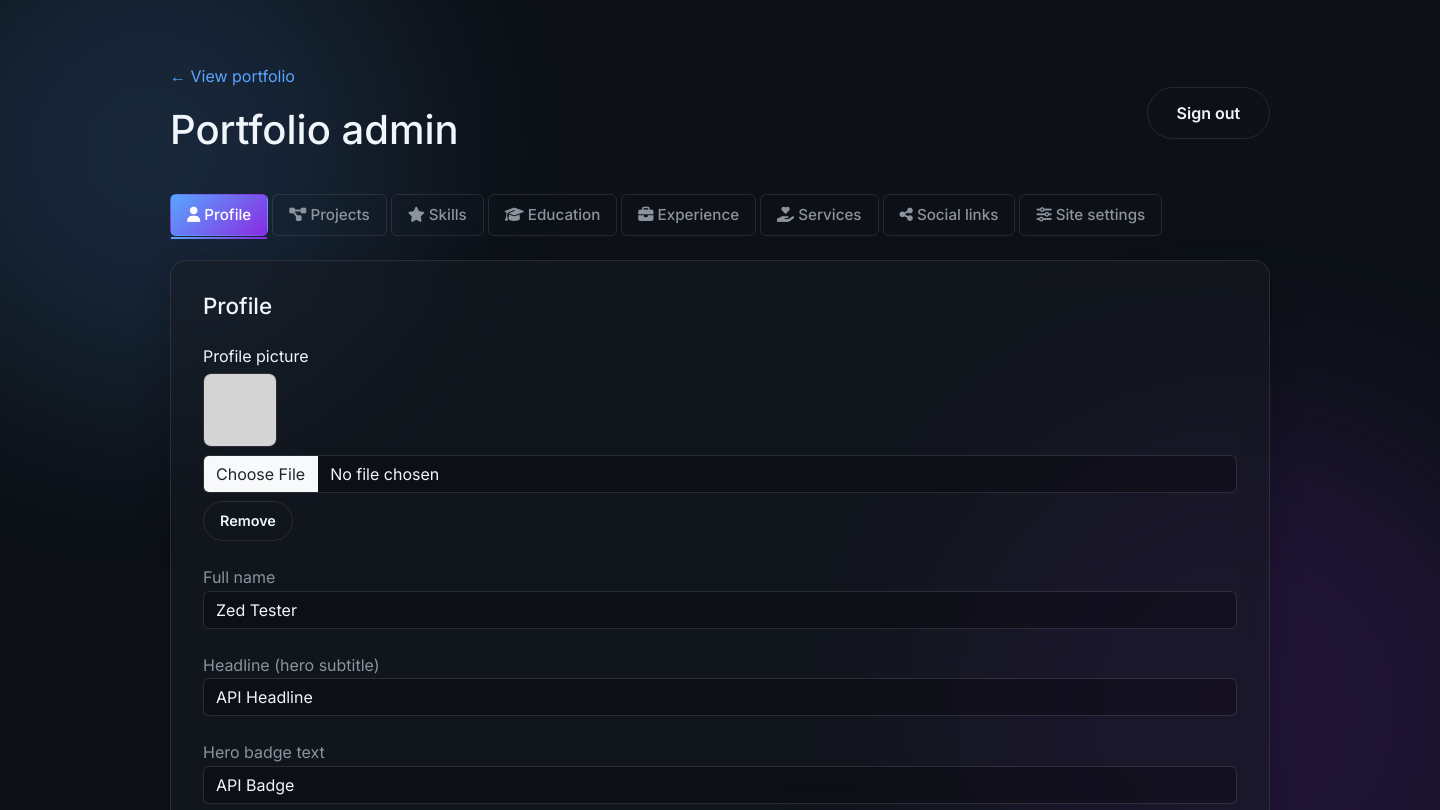
Test: admin dashboard › shows a list-loading error instead of a blank page
Check: the field labelled "Full name" is shown, box x1=203 y1=591 x2=1237 y2=629
Click the tab "Education" at (553, 215), box x1=488 y1=194 x2=617 y2=236
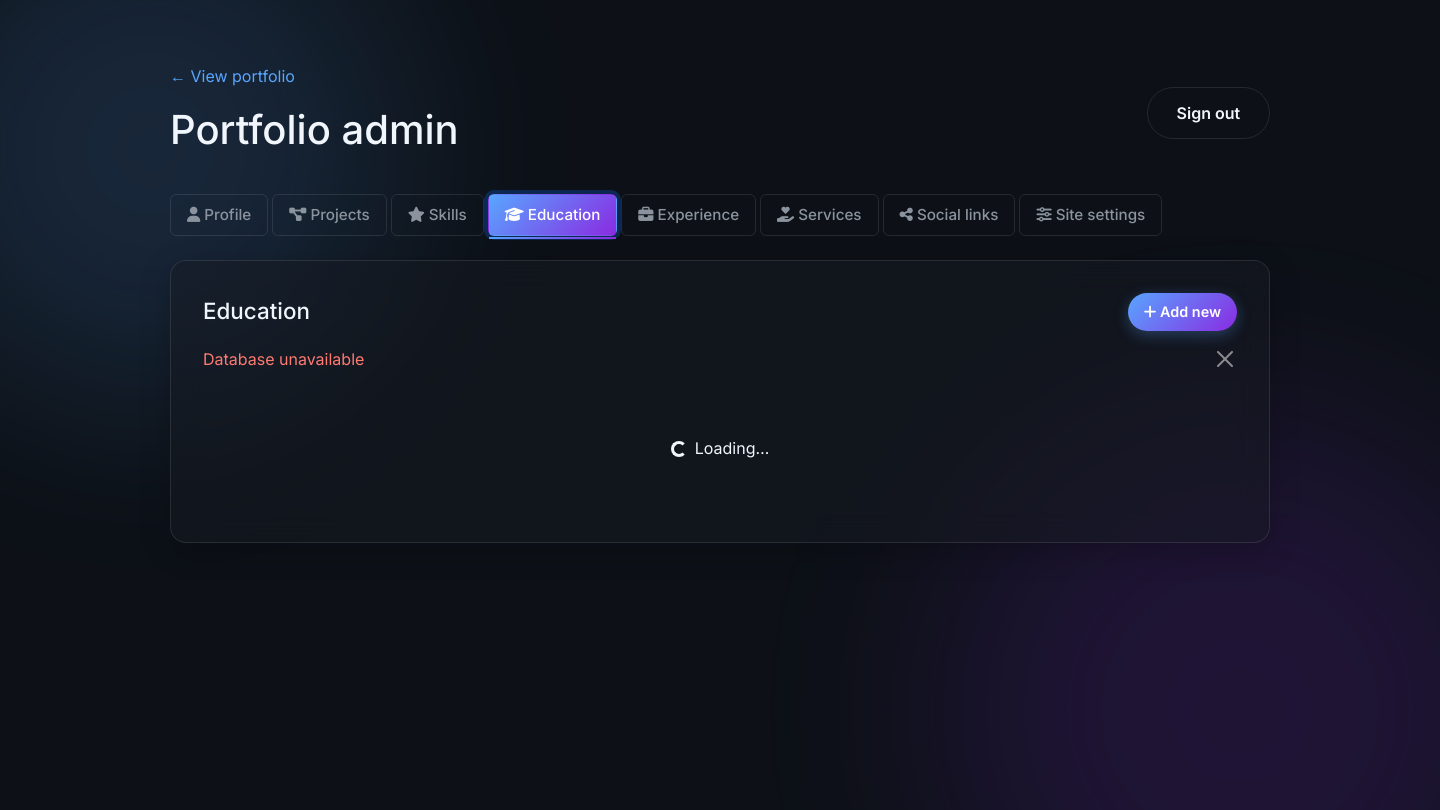
Check: the message "Database unavailable" is shown, box x1=203 y1=346 x2=1237 y2=372
